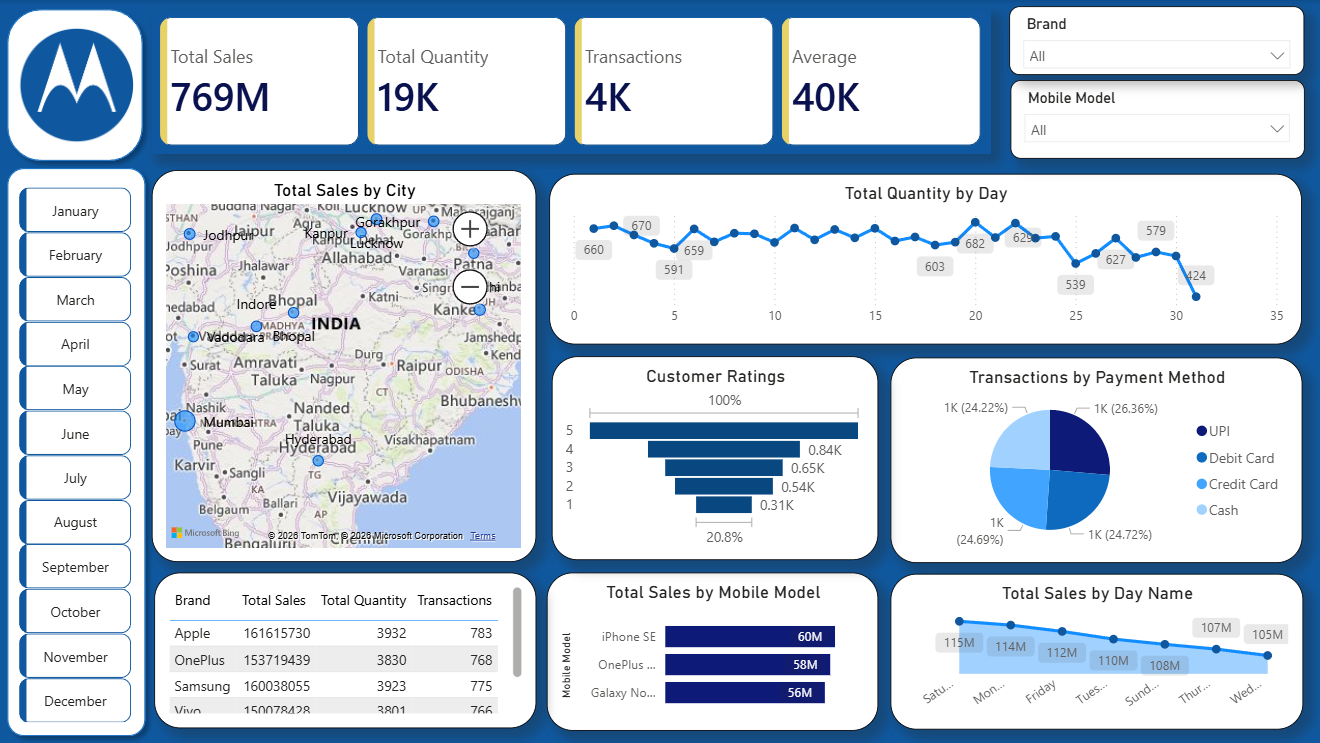

This screenshot's page, from the dashboard's own definition file:
{"tool":"powerbi","page":{"name":"Page 1","canvas":[1280,720],"ordinal":0},"visuals":[{"type":"shape","box":[0,0,148.6,164.3],"z":0},{"type":"image","box":[11.4,24.3,130,115.7],"z":1000},{"type":"group","id":"g1","title":"Group 1","box":[0,153.8,151.2,566.2],"z":2000},{"type":"shape","box":[0,153.8,151.3,566.2],"z":2000,"group":"g1"},{"type":"cardVisual","fields":{"Data":["Sales_Data.Total_Sales","Sales_Data.Total Quantity","Sales_Data.Transactions","Sales_Data.Average"]},"box":[148.8,8.8,810.5,140],"z":3000},{"type":"advancedSlicerVisual","fields":{"Values":["Sales_Data.Date.Variation.Date Hierarchy.Month"]},"box":[15.7,176.8,118.7,526.5],"z":3000,"group":"g1"},{"type":"map","fields":{"Category":["Sales_Data.City"],"Size":["Sales_Data.Total Sales"]},"box":[148.8,163.8,371.2,378.8],"z":4000},{"type":"lineChart","fields":{"Y":["Sales_Data.Total Quantity"],"Category":["Sales_Data.Date.Variation.Date Hierarchy.Month","Sales_Data.Date.Variation.Date Hierarchy.Day"]},"box":[532.5,167.7,726.2,164.8],"z":5000},{"type":"clusteredBarChart","fields":{"Category":["Sales_Data.Mobile Model"],"Y":["Sales_Data.Total Sales"]},"box":[529.3,552.5,320,152.5],"z":6000},{"type":"pieChart","fields":{"Category":["Sales_Data.Payment Method"],"Y":["Sales_Data.Transactions"]},"box":[861.2,345,397.5,198.5],"z":7000},{"type":"funnel","title":"Customer Ratings","fields":{"Category":["Sales_Data.Customer Ratings"],"Y":["CountNonNull(Sales_Data.Customer Ratings)"]},"box":[535,343.8,315,196.8],"z":8000},{"type":"areaChart","fields":{"Category":["Sales_Data.Day Name"],"Y":["Sales_Data.Total Sales"]},"box":[861.8,553.8,398.2,150],"z":9000},{"type":"tableEx","fields":{"Values":["Sales_Data.Brand","Sales_Data.Total Sales","Sales_Data.Total Quantity","Sales_Data.Transactions"]},"box":[151.2,552.5,369,150],"z":10000},{"type":"slicer","fields":{"Values":["Sales_Data.Mobile Model"]},"box":[977,77.3,283.8,76.2],"z":11000},{"type":"slicer","fields":{"Values":["Sales_Data.Brand"]},"box":[975.8,6.2,285,66.2],"z":12000}]}

Visuals, with their boxes in screenshot pixels (x1, y1, x2, y2), scaled from the page's 1280x720 canvas onto the 1320x743 screenshot:
shape: 0/0/153/170
image: 12/25/146/144
"Group 1" group: 0/159/156/742
shape: 0/159/156/742
cardVisual - Sales_Data.Total_Sales x Sales_Data.Total Quantity: 153/9/989/154
advancedSlicerVisual - Sales_Data.Date.Variation.Date Hierarchy.Month: 16/182/139/726
map - Sales_Data.City x Sales_Data.Total Sales: 153/169/536/560
lineChart - Sales_Data.Total Quantity x Sales_Data.Date.Variation.Date Hierarchy.Month: 549/173/1298/343
clusteredBarChart - Sales_Data.Mobile Model x Sales_Data.Total Sales: 546/570/876/728
pieChart - Sales_Data.Payment Method x Sales_Data.Transactions: 888/356/1298/561
"Customer Ratings" funnel: 552/355/877/558
areaChart - Sales_Data.Day Name x Sales_Data.Total Sales: 889/571/1299/726
tableEx - Sales_Data.Brand x Sales_Data.Total Sales: 156/570/536/725
slicer - Sales_Data.Mobile Model: 1008/80/1300/158
slicer - Sales_Data.Brand: 1006/6/1300/75
